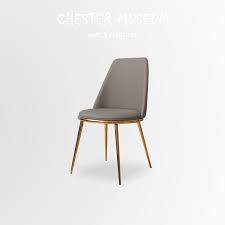chair: (56, 50, 158, 190)
